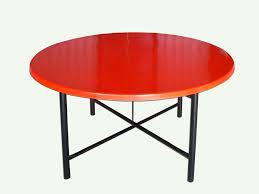desk: (23, 21, 241, 187)
